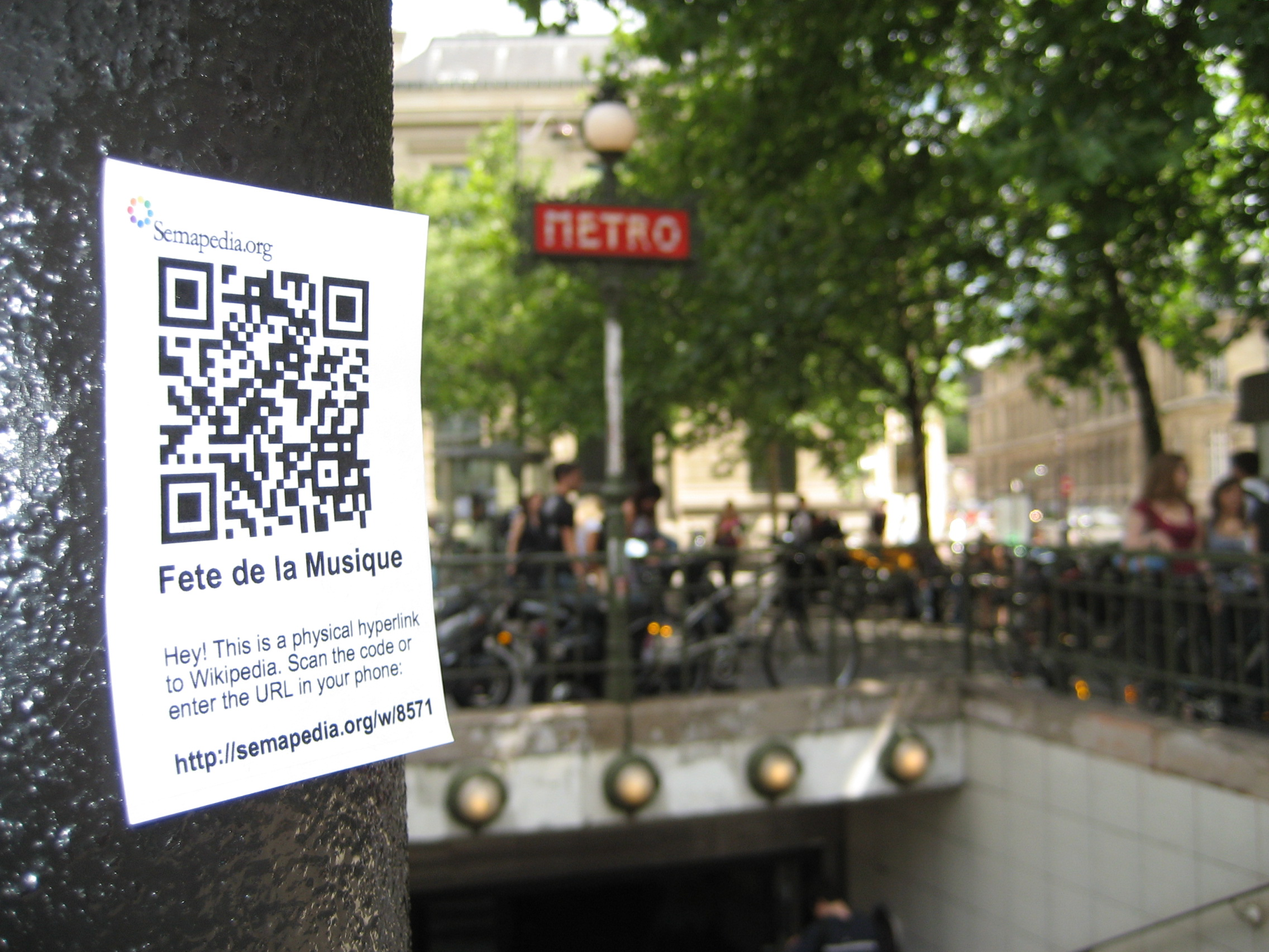QR-CODE: (158, 256, 373, 544)
